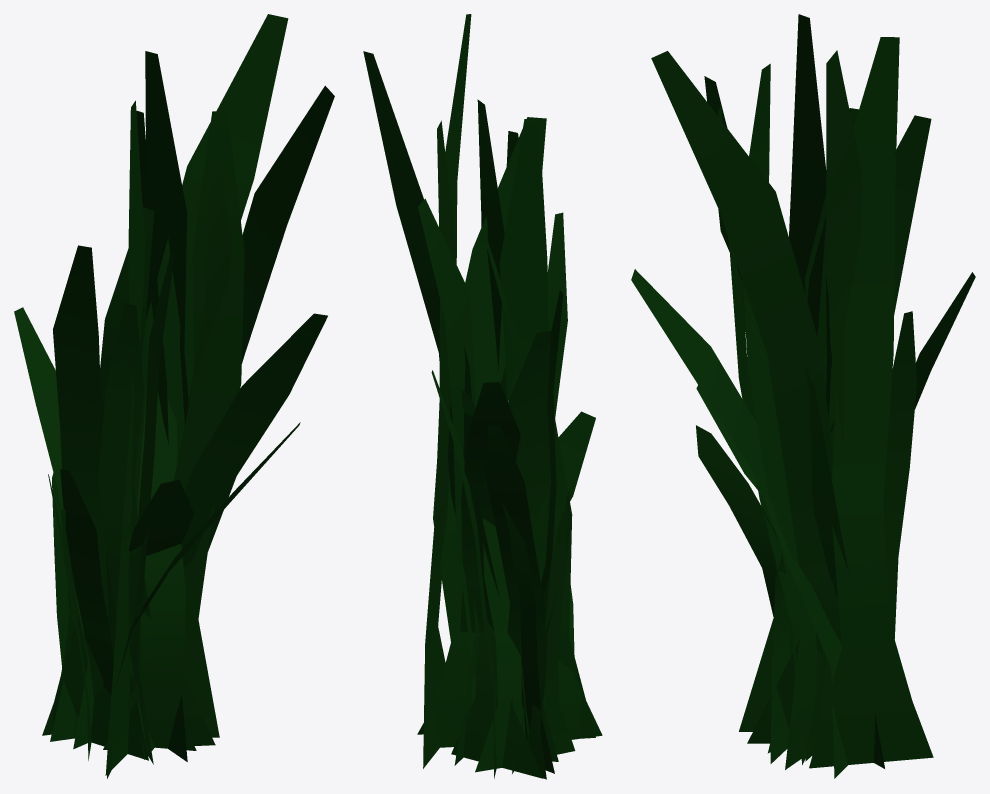
File: Grass_07.fbx
3 renders of one model, left to right at view 1: azimuth 30°, elevation 25°; view 2: azimuth 150°, elevation 25°; view 3: azimuth 270°, elevation 25°, orthographic. The views are drawn at different scales.
Parts seen in each view (by area): view 1: grass_07_LOD0; view 2: grass_07_LOD0; view 3: grass_07_LOD0.
Boxes of the visible parts, <box> form: grass_07_LOD0: <box>14,14,334,778</box>; grass_07_LOD0: <box>363,14,602,779</box>; grass_07_LOD0: <box>631,14,975,778</box>.
Size of what is drawn, in the model's own units: 73.26 by 210 by 86.5.
